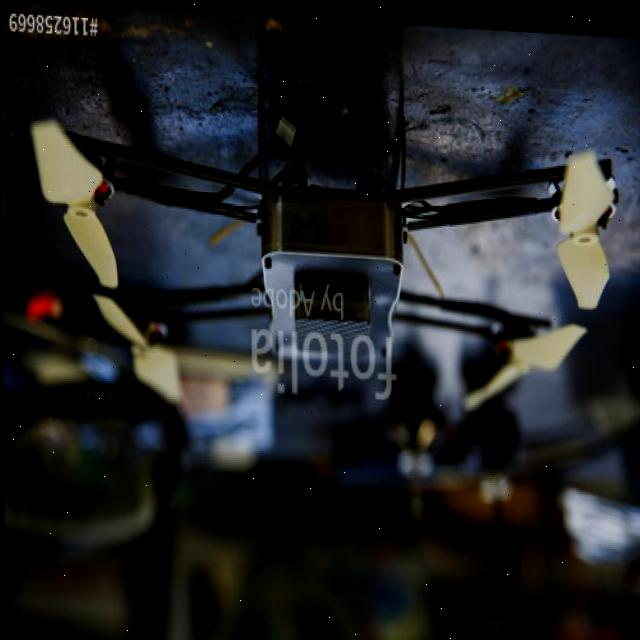drone: (8, 69, 620, 412)
